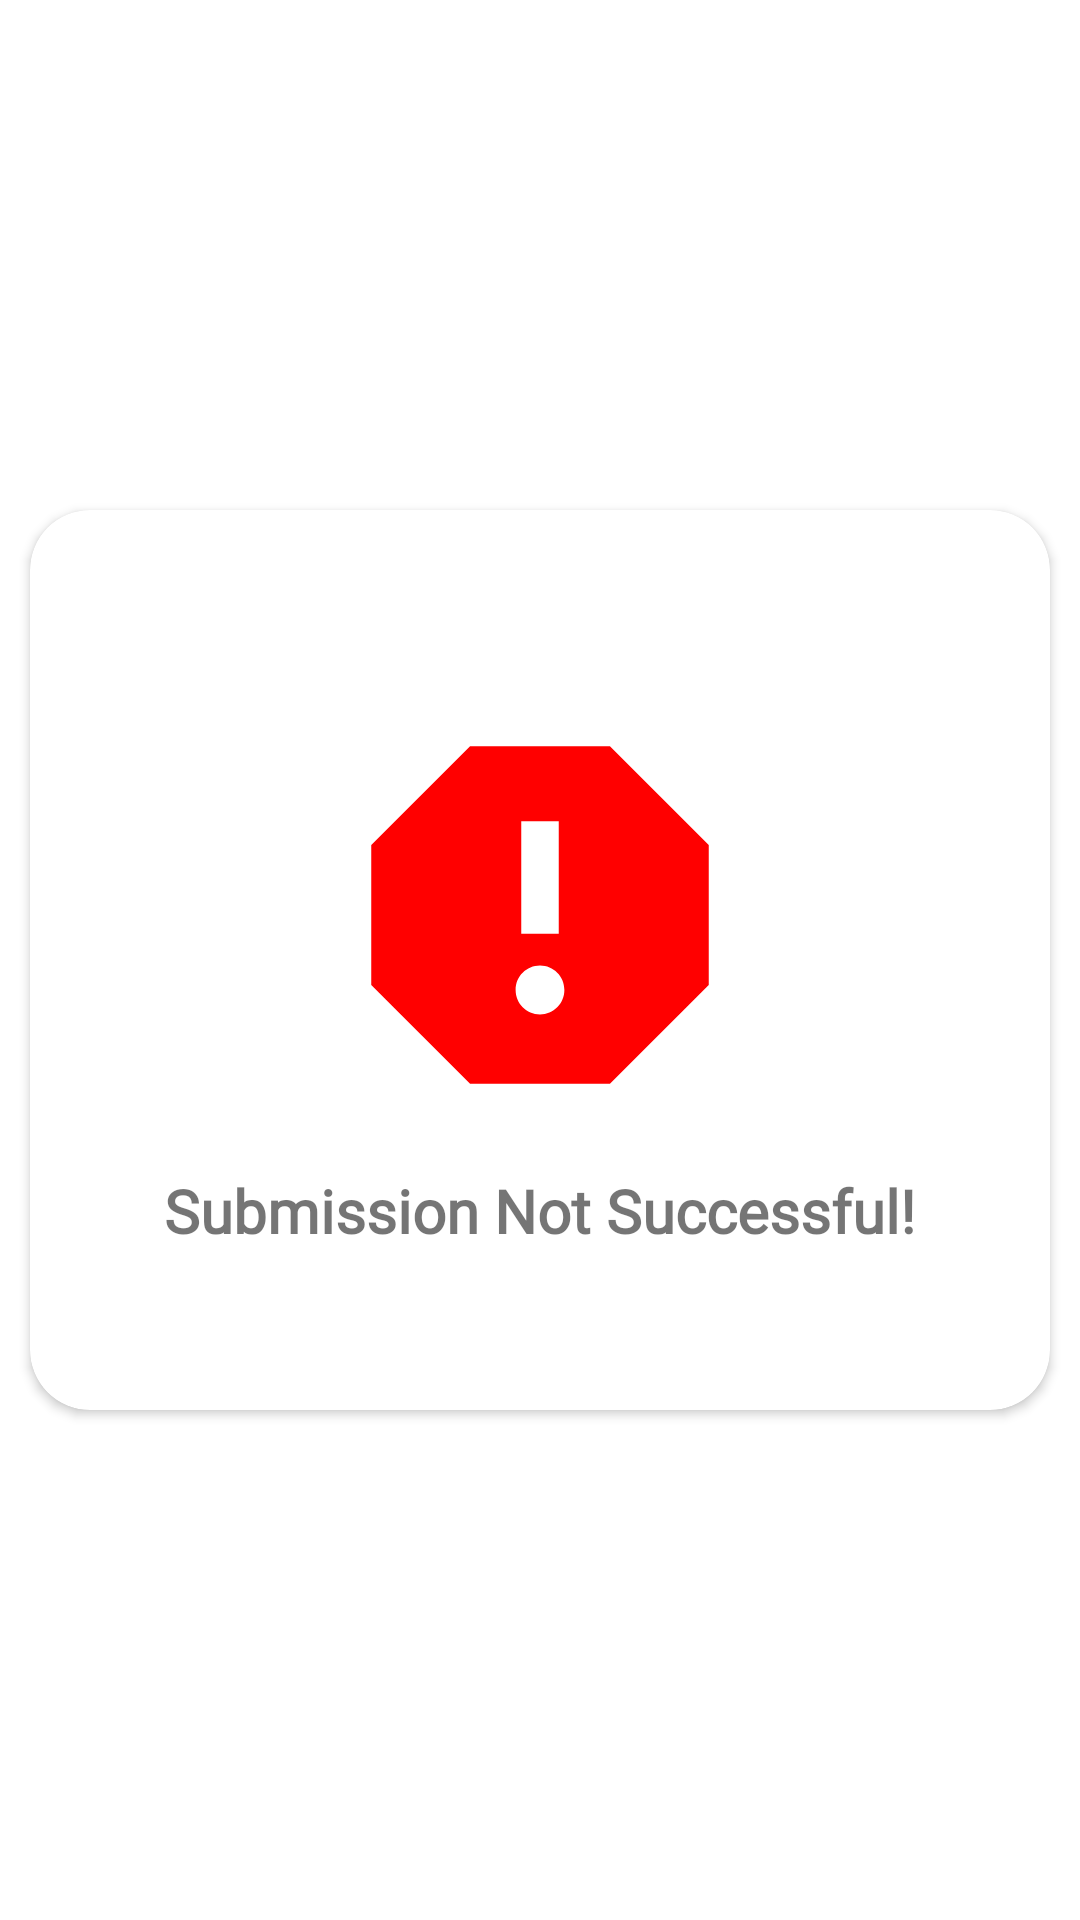

Icon click points for this 1080*1920 phone screenshot, format (x,y):
report: (540,915)
